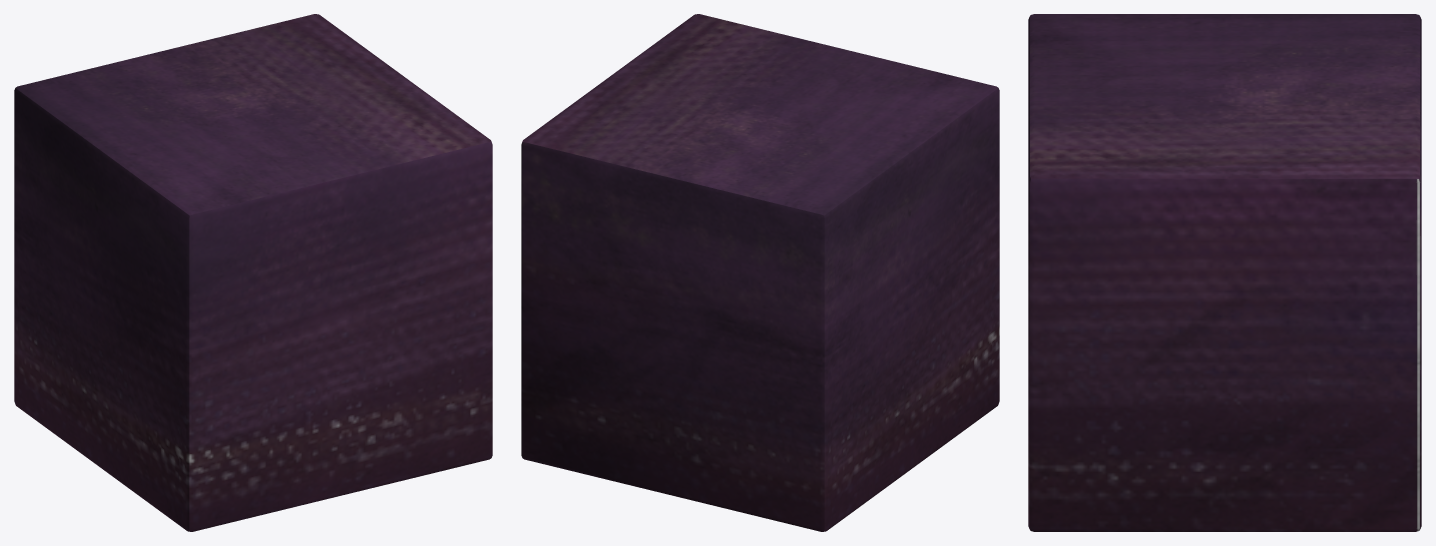
File: MANOR_GROUND_1.obj
The picture shows the model from 3 angles, left to right: view 1: azimuth 30°, elevation 25°; view 2: azimuth 150°, elevation 25°; view 3: azimuth 270°, elevation 25°; orthographic projection. The views are drawn at different scales.
Parts seen in each view (by area): view 1: MANOR_GROUND_1.006; view 2: MANOR_GROUND_1.006; view 3: MANOR_GROUND_1.006.
Part boxes in pixels (bbox=[...]): MANOR_GROUND_1.006: bbox=[14, 14, 492, 531]; MANOR_GROUND_1.006: bbox=[521, 14, 999, 531]; MANOR_GROUND_1.006: bbox=[1028, 14, 1421, 531].
Size of the model in its own units: 1 by 1 by 1.
